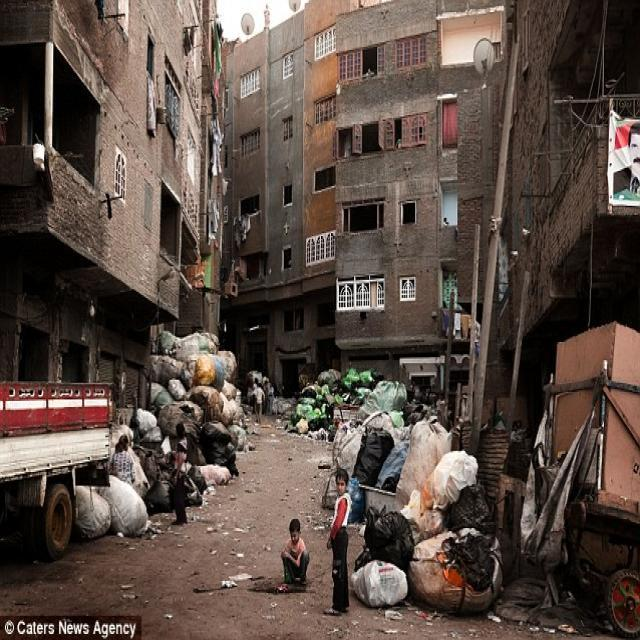garbage: (35, 298, 504, 622)
